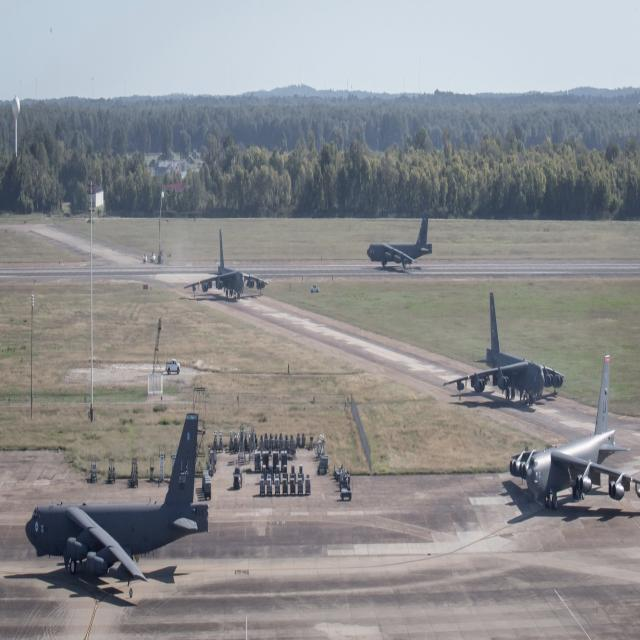MIL_Plane: (26, 412, 210, 598), (510, 361, 639, 498), (443, 273, 565, 387), (184, 36, 268, 109), (365, 209, 431, 271)
